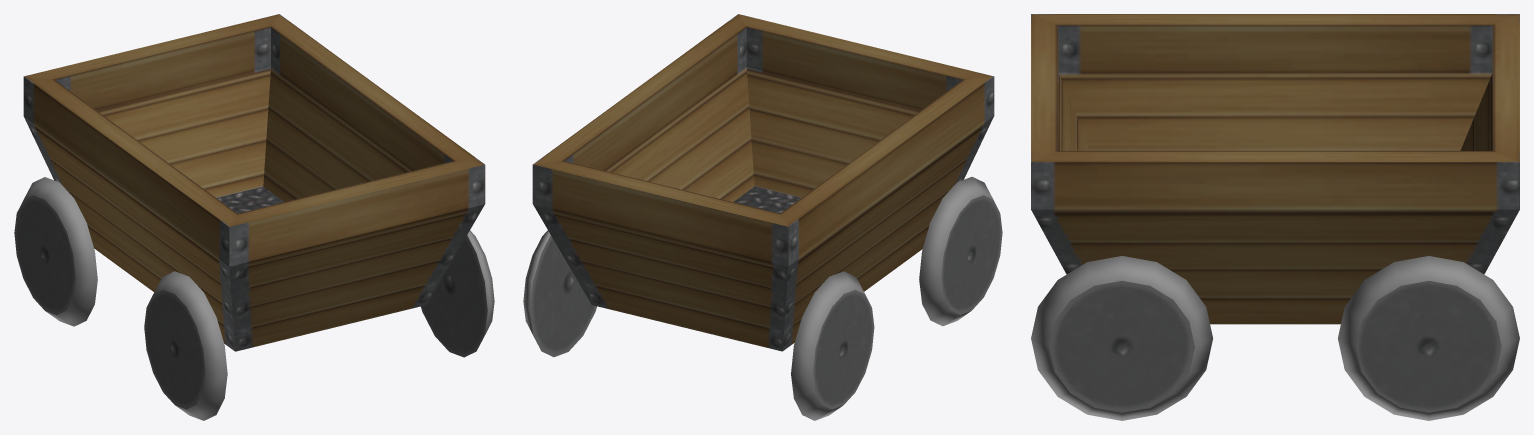
The model's file is wagon.obj.
3 renders of one model, left to right at view 1: azimuth 30°, elevation 25°; view 2: azimuth 150°, elevation 25°; view 3: azimuth 270°, elevation 25°, orthographic. The views are drawn at different scales.
Parts seen in each view (by area): view 1: wagon, wheelBL, wheelFL, wheelBR; view 2: wagon, wheelFL, wheelBL, wheelFR; view 3: wagon, wheelBR, wheelFR.
Boxes of the visible parts, left/top/right/bottom form: wagon: left=23, top=14, right=485, bottom=351; wheelBL: left=144, top=271, right=227, bottom=420; wheelFL: left=14, top=177, right=97, bottom=326; wheelBR: left=421, top=230, right=494, bottom=357; wagon: left=532, top=14, right=994, bottom=351; wheelFL: left=791, top=271, right=874, bottom=420; wheelBL: left=919, top=177, right=1002, bottom=326; wheelFR: left=523, top=230, right=596, bottom=357; wagon: left=1031, top=14, right=1519, bottom=324; wheelBR: left=1031, top=256, right=1212, bottom=420; wheelFR: left=1338, top=256, right=1519, bottom=420.
Bounding box in the file's own units: 0.6055 × 0.4316 × 0.7441.
1 material, 1 textured.
